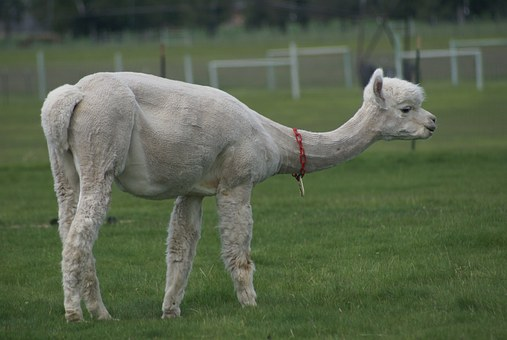alpaca: (40, 66, 437, 324)
